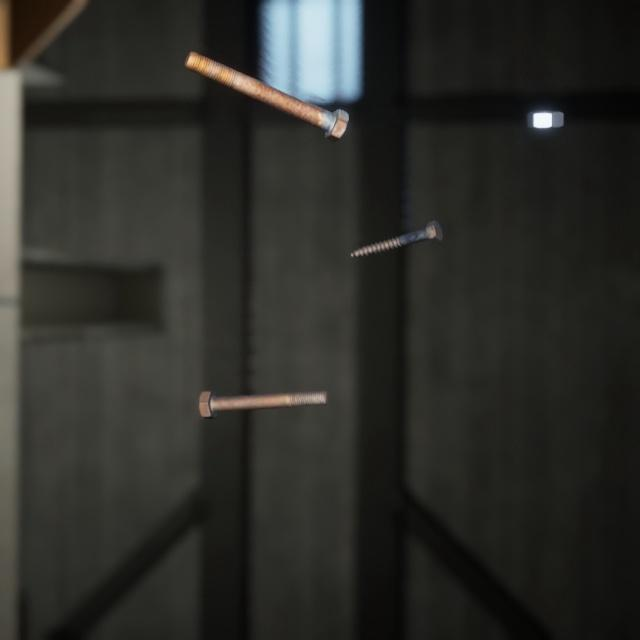bolt: (179, 35, 352, 133), (194, 365, 333, 403), (346, 200, 447, 246)
